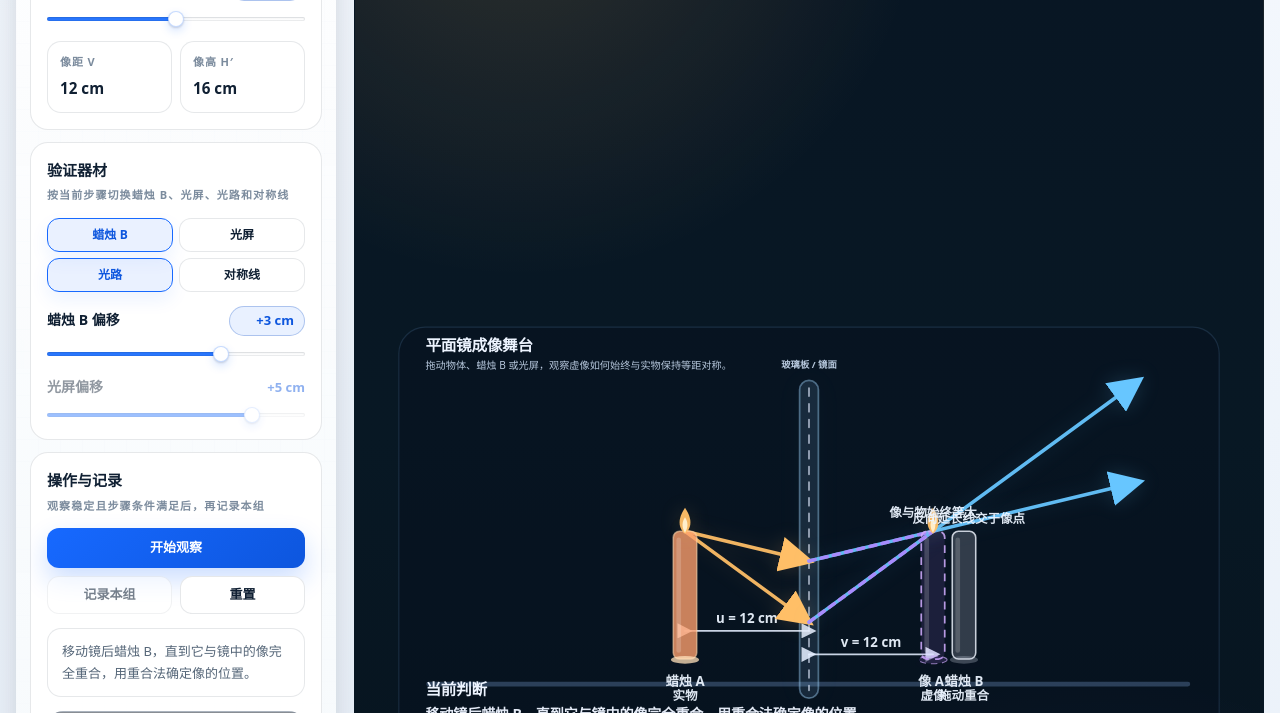
Test: PlaneMirrorLab › unlocks recording after candle B is aligned and the observation settles
(page scrolled)
Set the slider labelled "蜡烛 B 偏移" to "0" at (176, 354), box [47,346,305,362]
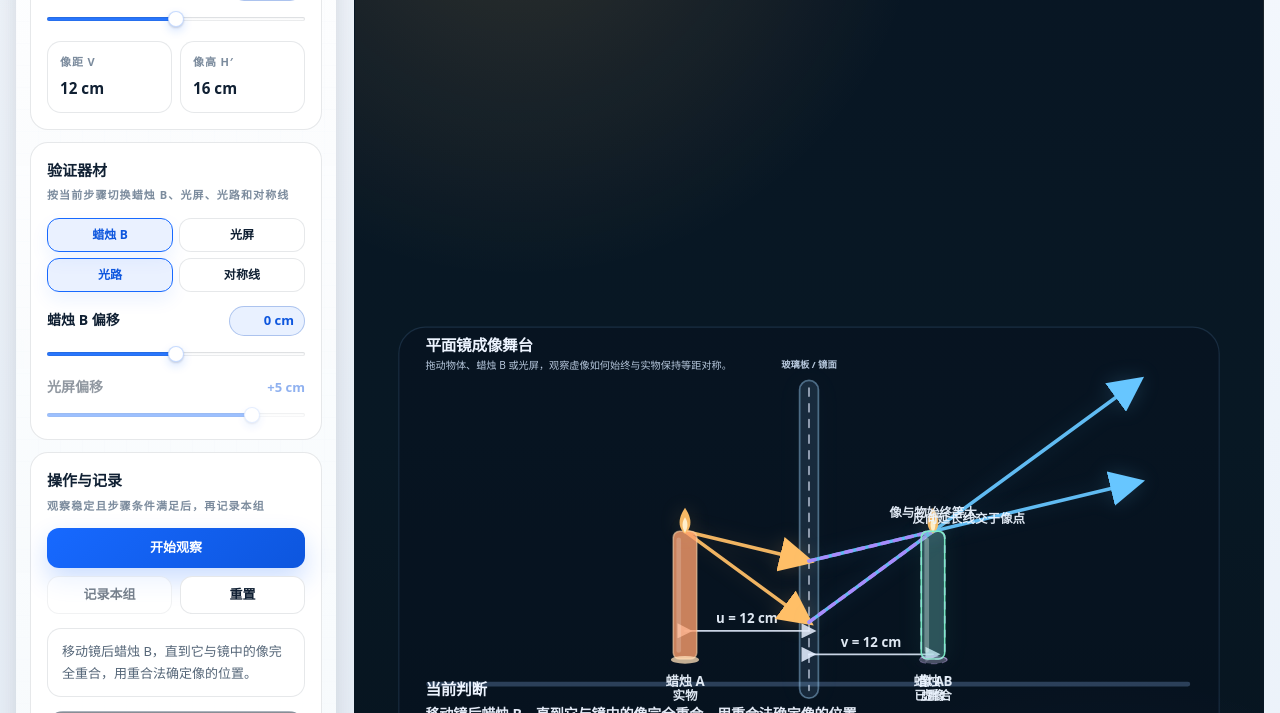
Click the button "开始观察" at (176, 548), box [47,528,305,568]
Wait 1000 ms
(page scrolled)
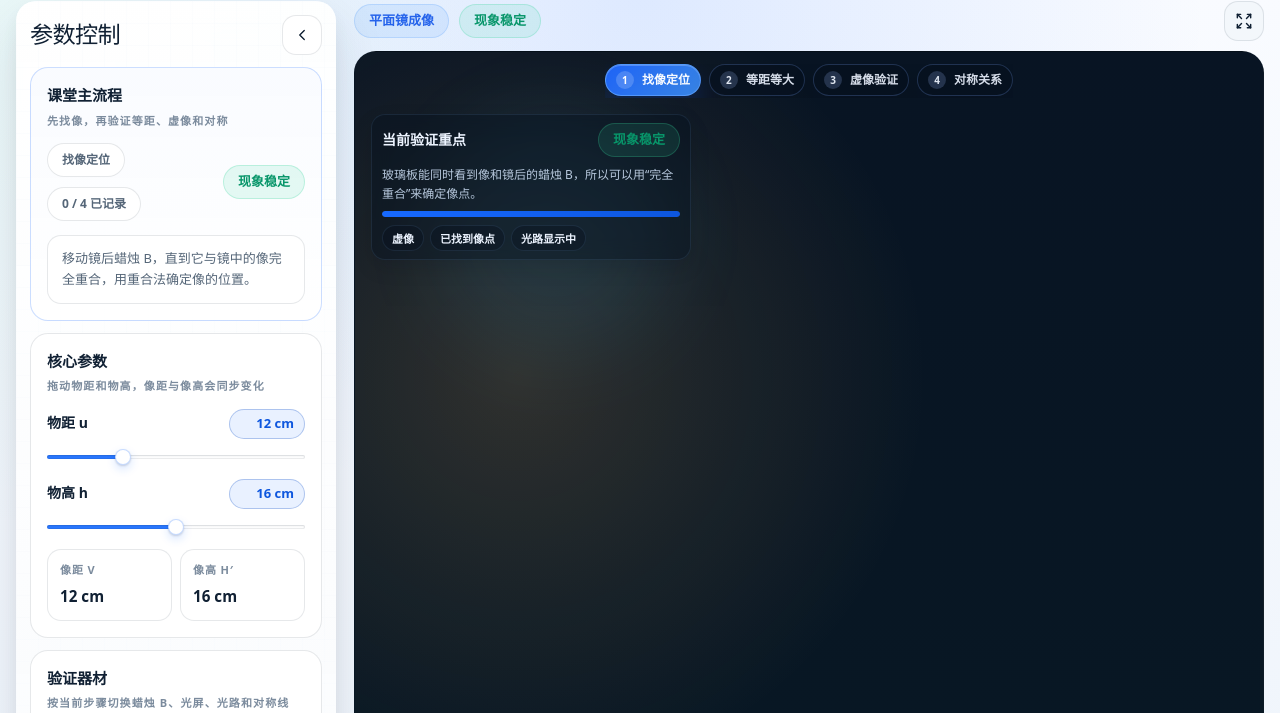
Check: the text "现象稳定" next to "0 / 4 已记录" is shown, box [238,172,290,190]
